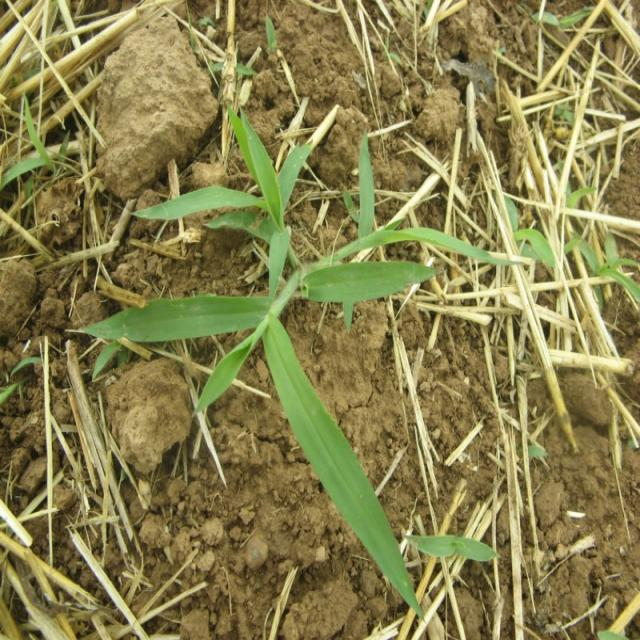bg: (76, 123, 439, 619)
